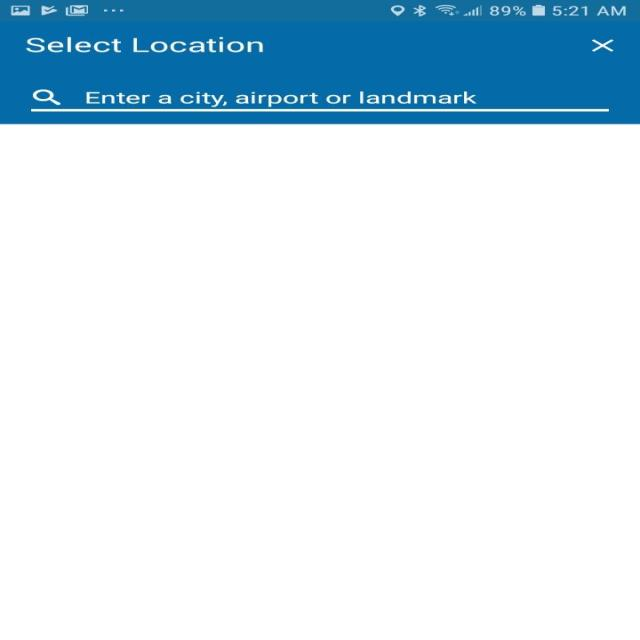EditText: (30, 89, 609, 112)
Icon: (32, 89, 61, 106), (590, 39, 614, 52)
Text: (86, 92, 477, 107), (25, 36, 264, 53)
